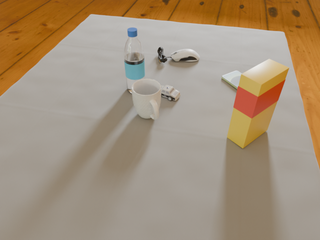bottle: (124, 28, 145, 93)
box: (227, 59, 289, 148)
cup: (131, 79, 161, 119)
mouse: (170, 49, 200, 62)
phone: (222, 71, 242, 89)
toy_car: (161, 85, 180, 101)
